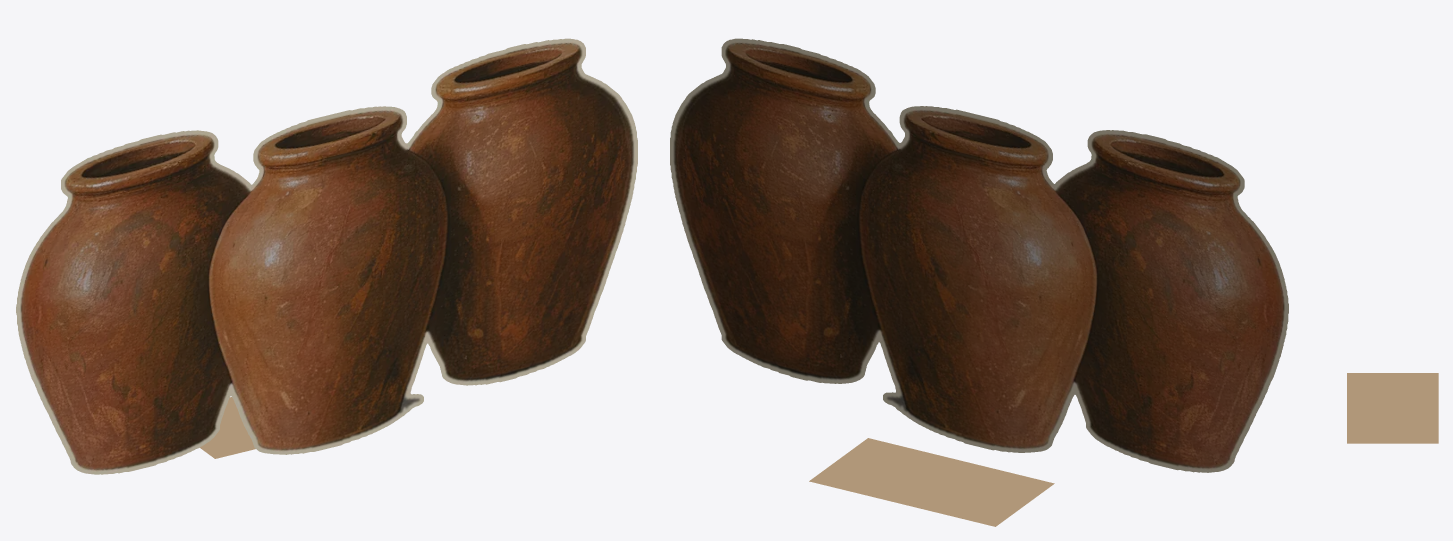
The model's file is toad-prop-jars.glb.
The picture shows the model from 3 angles, left to right: view 1: azimuth 30°, elevation 25°; view 2: azimuth 150°, elevation 25°; view 3: azimuth 270°, elevation 25°; orthographic projection. The views are drawn at different scales.
Visible parts, largest first — view 1: jars; view 2: jars; view 3: jars.
Boxes of the visible parts, left/top/right/bottom form: jars: left=16, top=38, right=637, bottom=474; jars: left=670, top=38, right=1288, bottom=526; jars: left=1347, top=373, right=1438, bottom=443.
Size of the model in its own units: 0.2 by 0.1102 by 0.043.
3 materials, 2 textured.
